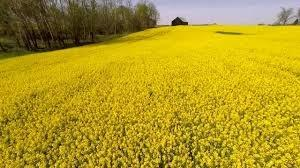field: (0, 25, 299, 166)
